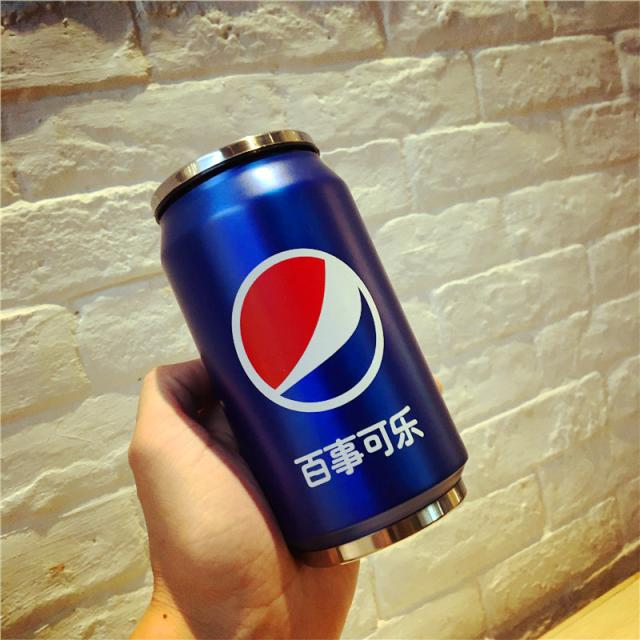can: (148, 126, 470, 572)
